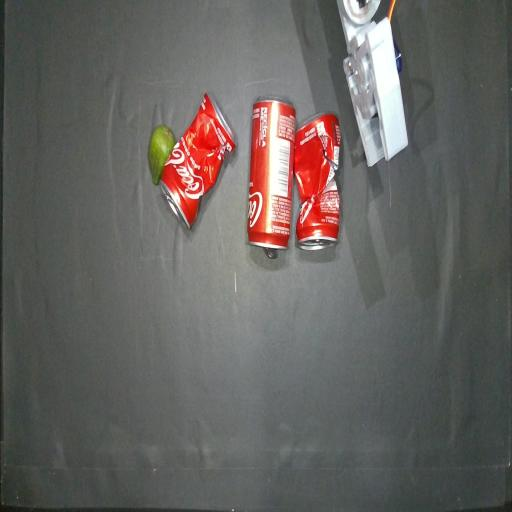higo: (148, 125, 175, 185)
lata: (247, 95, 296, 258)
lata_defectuoso: (161, 94, 235, 229), (295, 113, 341, 249)
